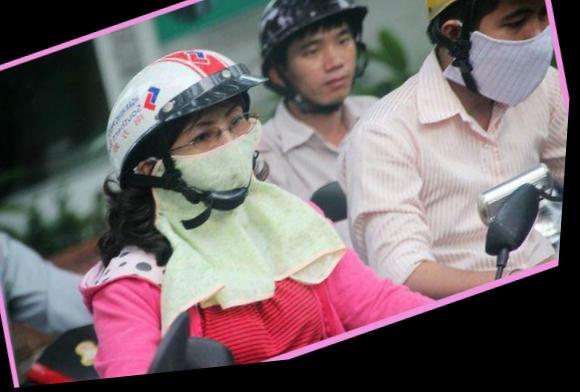NONE: (282, 27, 373, 131)
OK: (157, 94, 274, 227)
WRONG: (463, 1, 571, 129)
